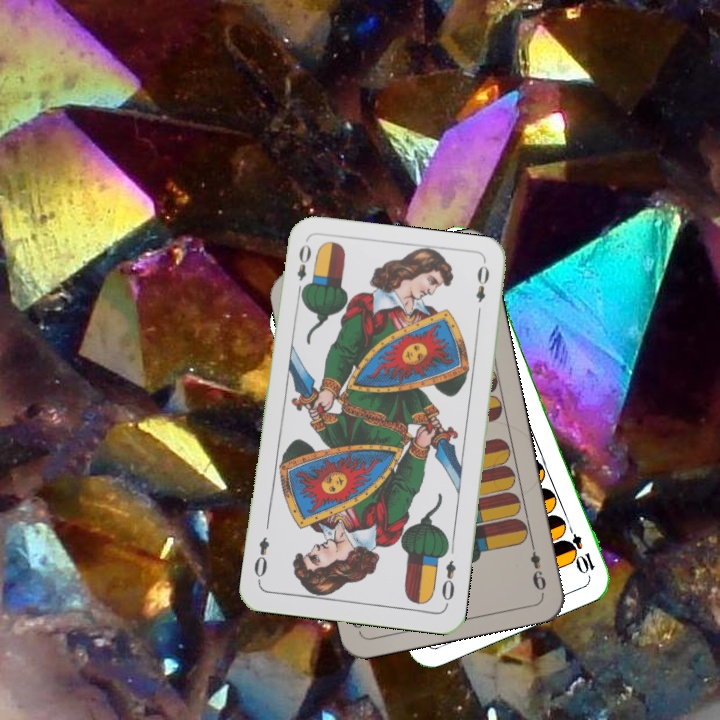E10: (561, 519, 597, 577)
E9: (526, 537, 549, 593)
EO: (292, 240, 314, 298), (438, 556, 459, 608)
